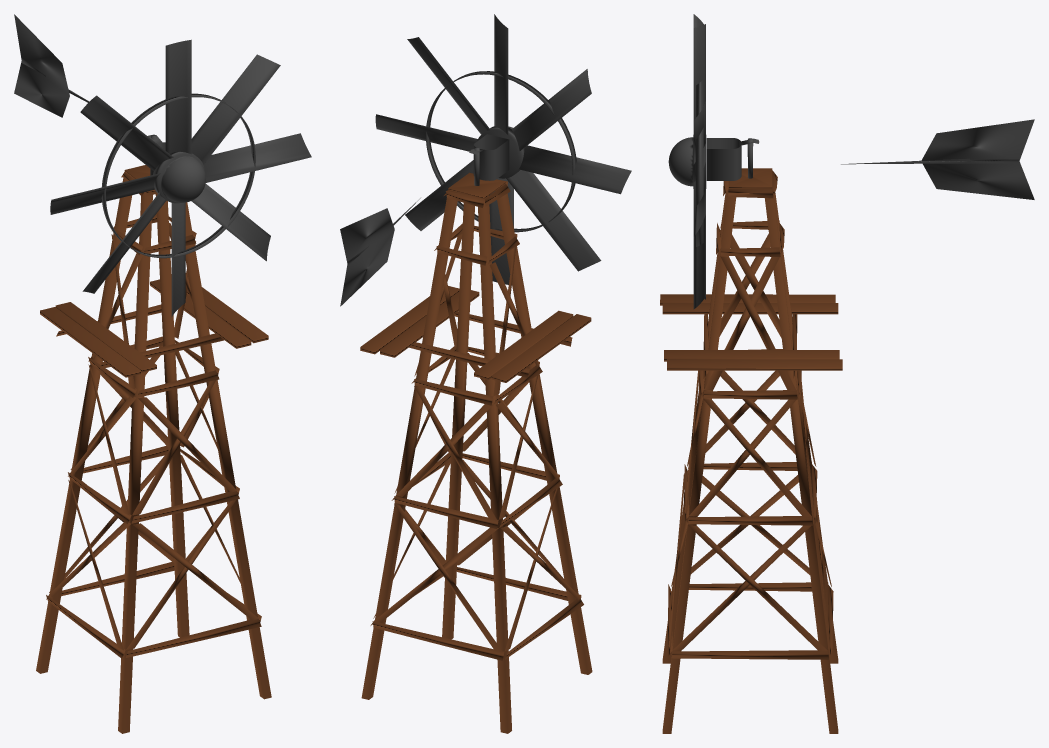
Rendered from windmill.glb.
3 views of the same model, side by side, from view 1: azimuth 30°, elevation 25°; view 2: azimuth 150°, elevation 25°; view 3: azimuth 270°, elevation 25° (orthographic). The views are drawn at different scales.
Visible parts, largest first — view 1: Tower_0, Fan_0, Blade_0; view 2: Tower_0, Fan_0, Blade_0; view 3: Tower_0, Blade_0, Fan_0.
Part boxes in pixels (left/top/right/bottom): Tower_0: left=36, top=165, right=271, bottom=733; Fan_0: left=50, top=39, right=311, bottom=316; Blade_0: left=14, top=14, right=89, bottom=117; Tower_0: left=360, top=172, right=592, bottom=733; Fan_0: left=375, top=14, right=631, bottom=284; Blade_0: left=340, top=198, right=420, bottom=306; Tower_0: left=660, top=168, right=842, bottom=733; Blade_0: left=841, top=119, right=1034, bottom=199; Fan_0: left=668, top=14, right=759, bottom=309.
Bounding box in the file's own units: 69.66 × 169 × 85.32.
